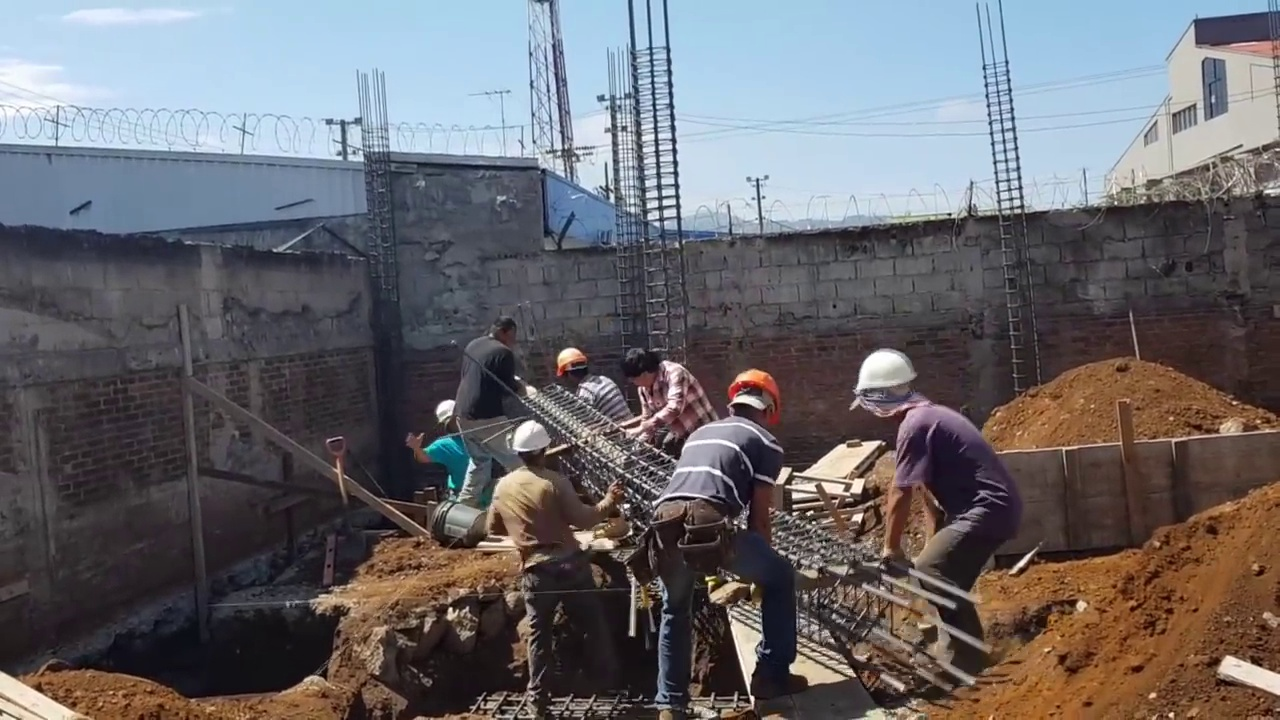helmet: (851, 349, 920, 396), (725, 370, 780, 423), (511, 422, 551, 453), (557, 350, 587, 378), (437, 400, 455, 426)
helmet-off: (621, 348, 674, 390), (484, 321, 512, 351)
helmet-on: (849, 349, 924, 426), (723, 370, 784, 431), (507, 424, 553, 475), (558, 349, 592, 386), (474, 375, 500, 412), (434, 398, 457, 438)
person: (847, 348, 1014, 693), (644, 368, 801, 690), (478, 416, 617, 696), (461, 316, 524, 498), (616, 345, 705, 455), (406, 398, 476, 503), (557, 348, 635, 430)
